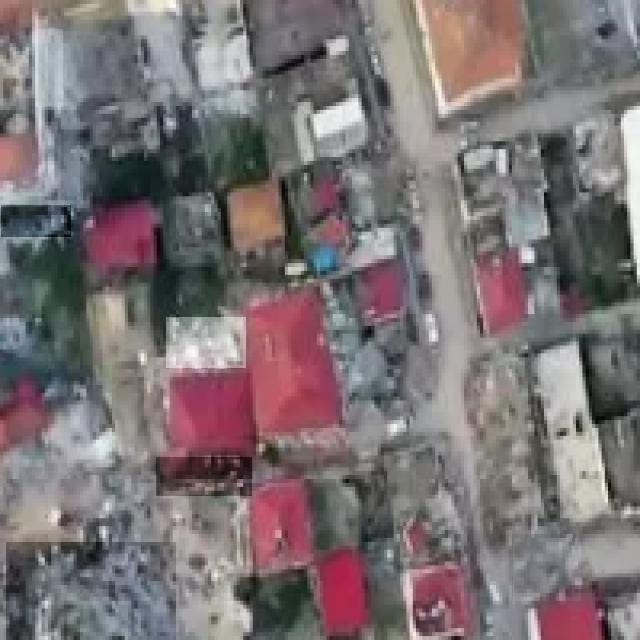Rubble: (6, 542, 176, 640), (339, 330, 409, 426), (47, 384, 116, 473), (514, 538, 582, 601), (166, 317, 246, 368), (156, 457, 252, 496), (1, 205, 71, 238), (35, 29, 63, 107)
